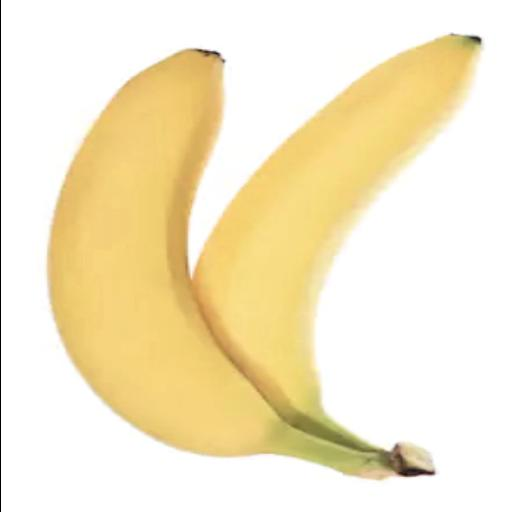banana: (49, 49, 392, 478), (193, 34, 480, 450)
